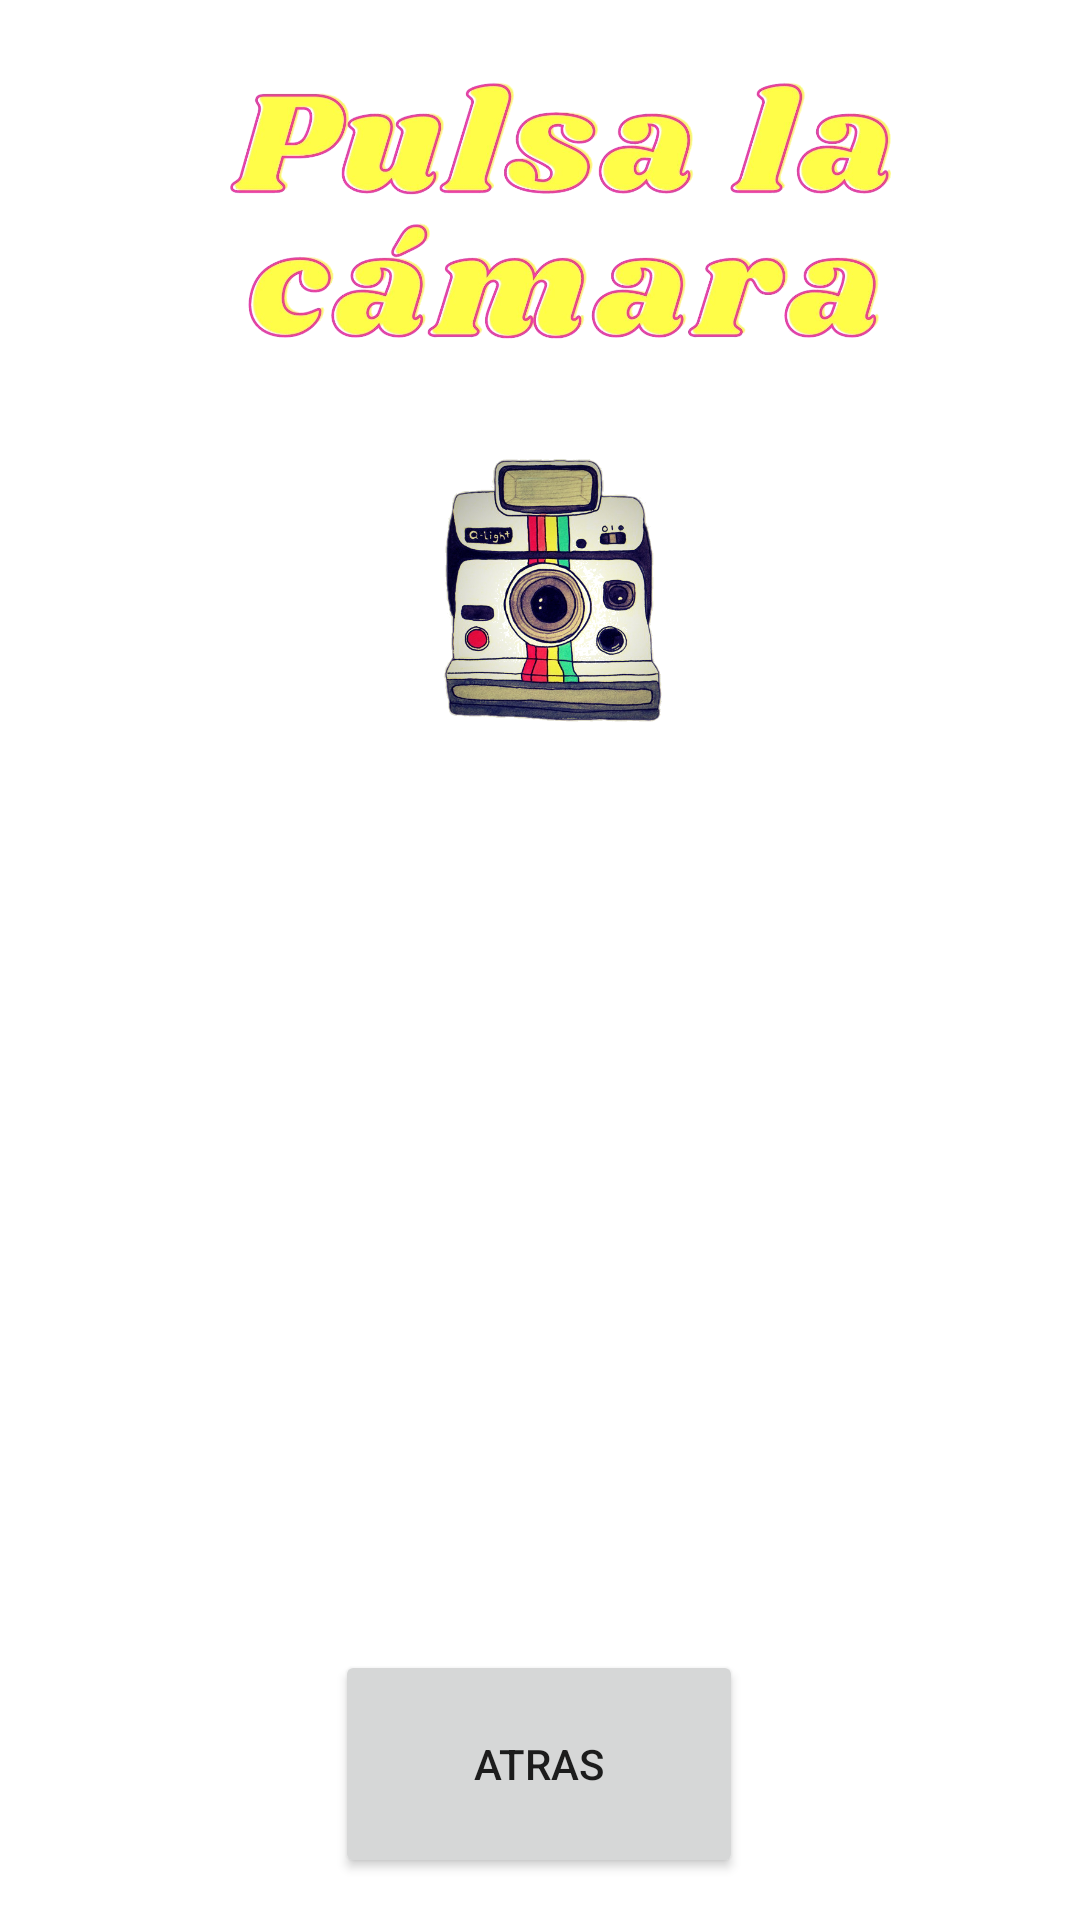

Locate icon controls on the screen. Image size 1080*1920, boxes as [x1, y1, x2, y2].
camara: [444, 459, 662, 721]
